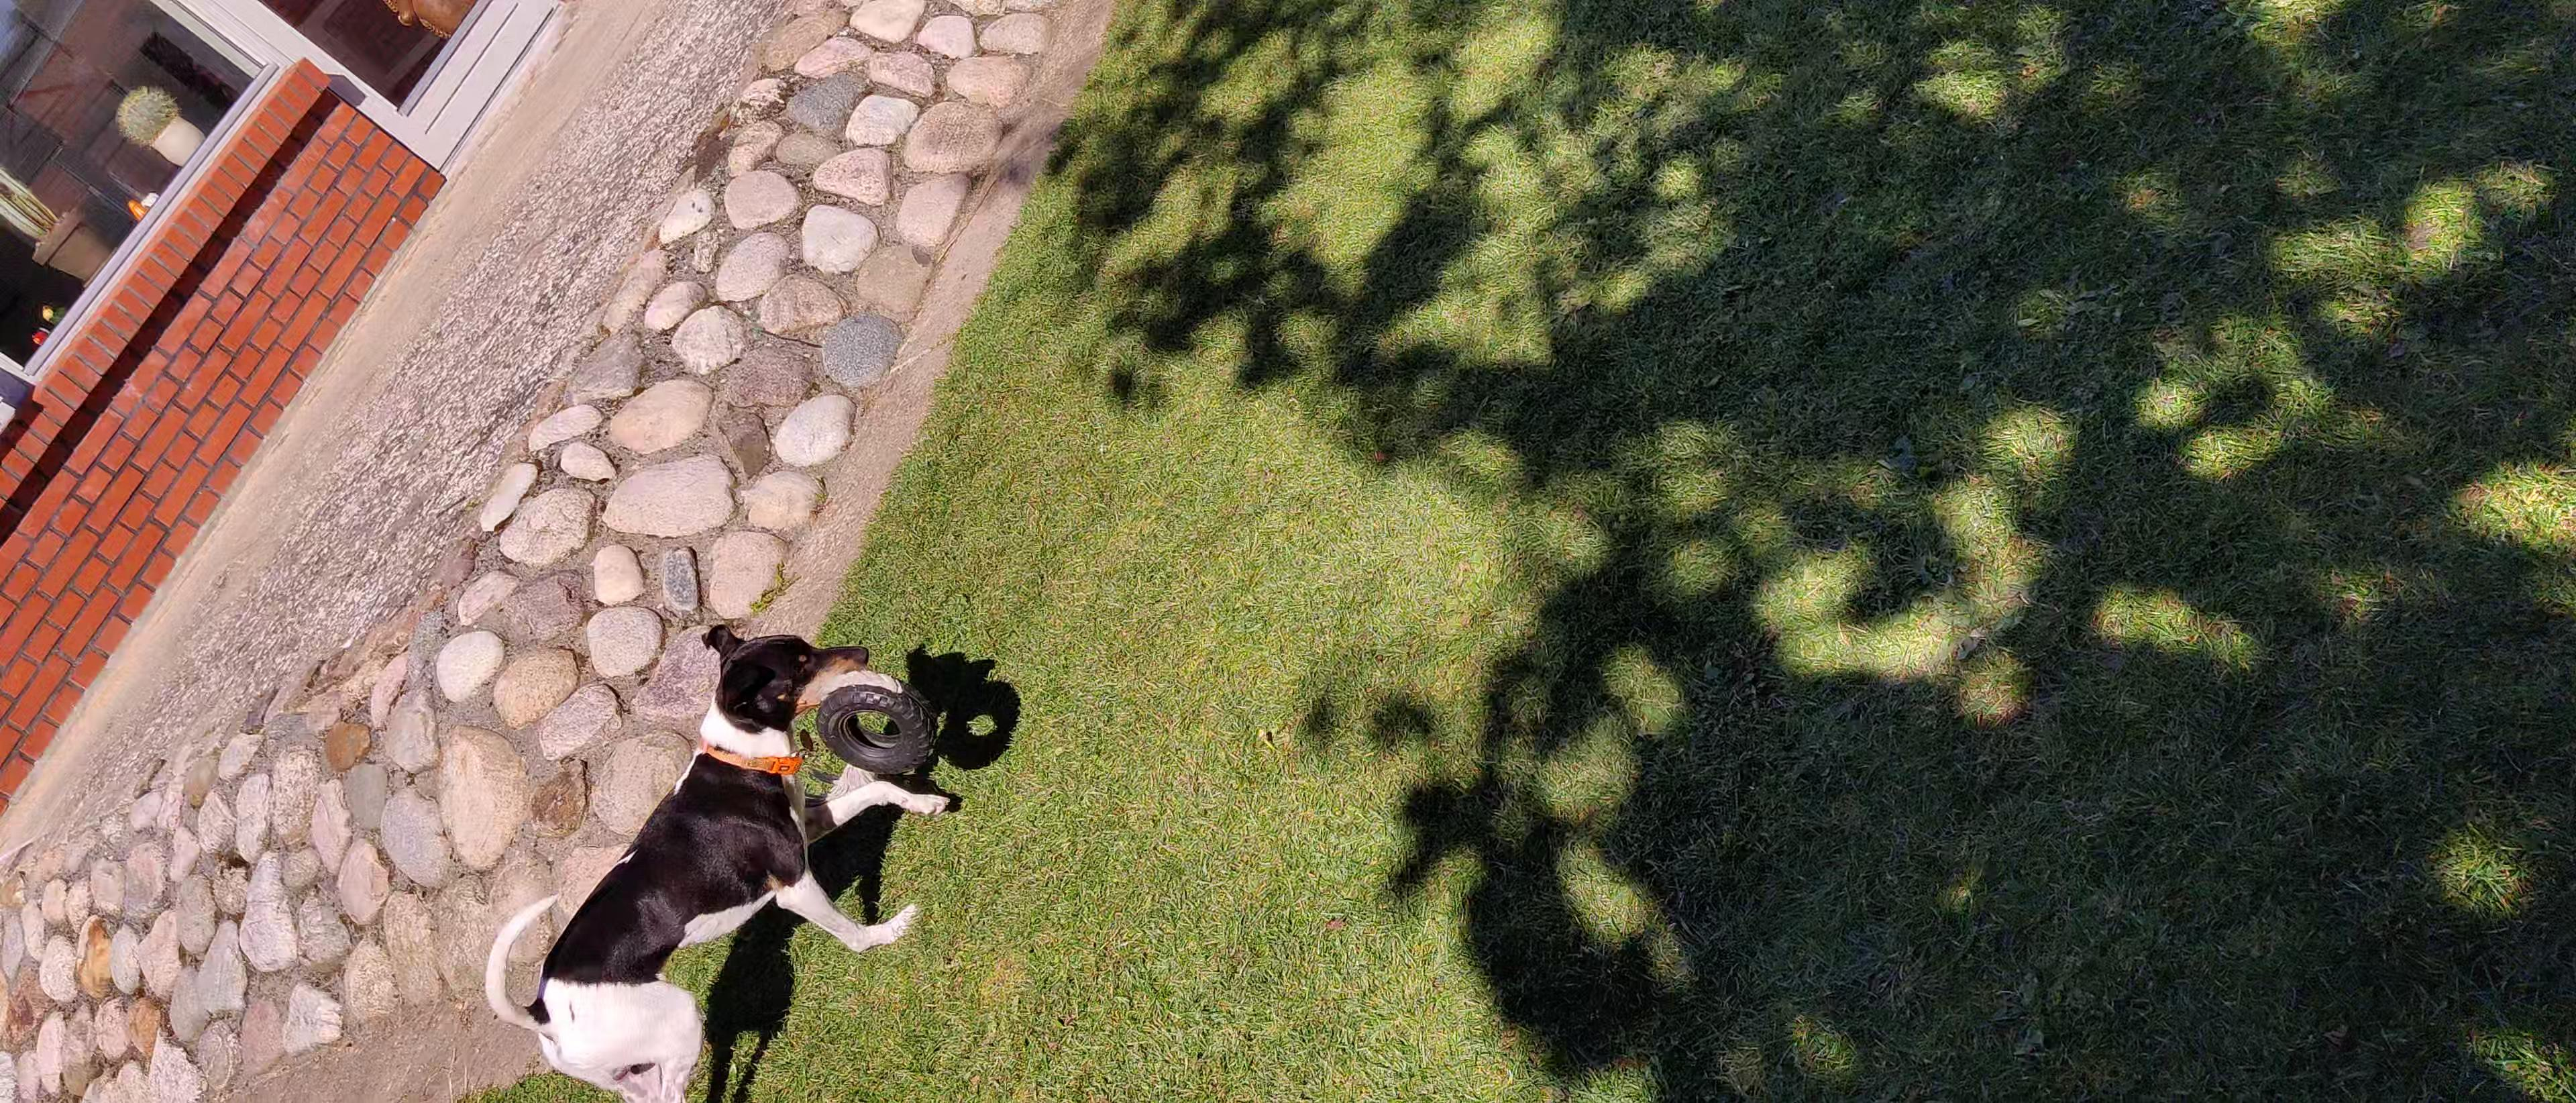Dog: (480, 616, 958, 1103)
